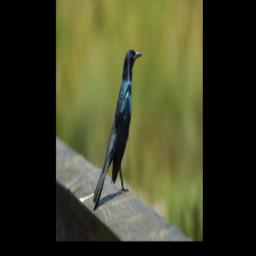Crow: (92, 47, 142, 210)
